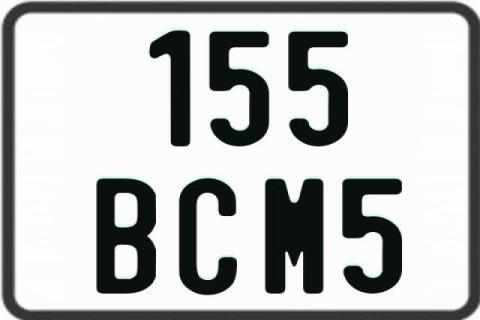0: (209, 31, 274, 146), (285, 32, 345, 150), (342, 176, 402, 294), (149, 30, 191, 150)
B: (95, 177, 154, 297)
C: (179, 176, 237, 293)
M: (266, 178, 326, 298)
